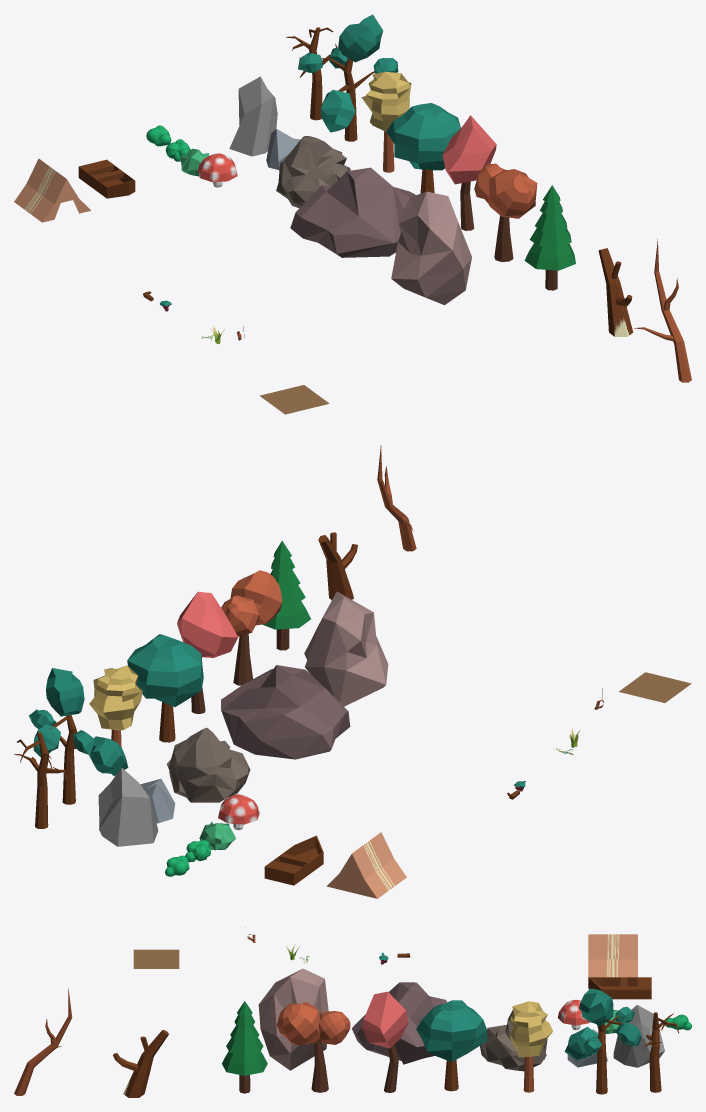
File: Prob_Atlas_meshfinal.fbx
3 views of the same model, one above another, from view 1: azimuth 30°, elevation 25°; view 2: azimuth 150°, elevation 25°; view 3: azimuth 270°, elevation 25° (orthographic). The views are drawn at different scales.
Parts seen in each view (by area): view 1: rock_01, rock_02, tree_05, tree_08, tree_01, rock_05, tree_03, tree_07, rock_03, tree_02, tent1, boat01 (+5 smaller); view 2: rock_01, rock_02, tree_08, tree_01, rock_05, tree_05, rock_03, tree_03, tent1, tree_02, tree_07, boat01 (+6 smaller); view 3: tree_05, rock_02, tree_01, tree_08, tree_03, rock_01, tree_07, tent1, tree_02, rock_05, rock_03, boat01 (+6 smaller).
Part boxes in pixels (<box>): rock_01: <box>290,167,415,257</box>; rock_02: <box>391,191,471,305</box>; tree_05: <box>442,115,633,336</box>; tree_08: <box>298,14,398,141</box>; tree_01: <box>386,103,460,193</box>; rock_05: <box>276,136,350,208</box>; tree_03: <box>474,163,537,261</box>; tree_07: <box>524,185,575,290</box>; rock_03: <box>229,76,277,156</box>; tree_02: <box>361,72,411,172</box>; tent1: <box>14,158,90,222</box>; boat01: <box>78,159,135,198</box>; rock_01: <box>221,665,350,759</box>; rock_02: <box>304,591,388,706</box>; tree_08: <box>29,668,128,804</box>; tree_01: <box>127,634,203,742</box>; rock_05: <box>167,727,250,802</box>; tree_05: <box>177,532,357,713</box>; rock_03: <box>98,767,158,846</box>; tree_03: <box>221,570,282,685</box>; tent1: <box>326,832,406,898</box>; tree_02: <box>89,665,142,747</box>; tree_07: <box>262,540,310,650</box>; boat01: <box>264,835,323,885</box>; tree_05: <box>113,991,408,1097</box>; rock_02: <box>258,968,328,1070</box>; tree_01: <box>416,1000,487,1091</box>; tree_08: <box>564,988,641,1094</box>; tree_03: <box>276,1002,350,1092</box>; rock_01: <box>352,982,447,1064</box>; tree_07: <box>222,1001,267,1093</box>; tent1: <box>588,934,637,977</box>; tree_02: <box>510,1001,553,1092</box>; rock_05: <box>480,1010,547,1071</box>; rock_03: <box>613,1004,664,1067</box>; boat01: <box>588,977,651,999</box>.
Bounding box in the file's own units: 1674 × 591 × 2982.
